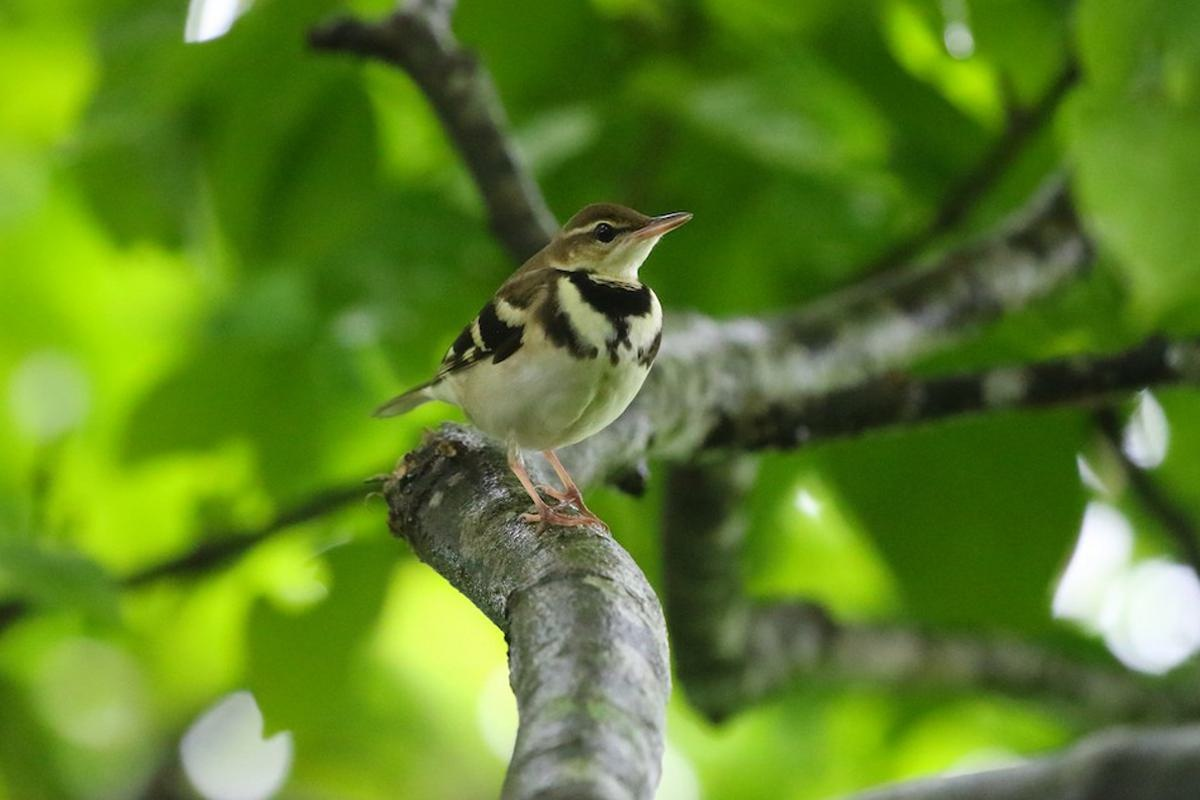wagtail: (359, 184, 746, 512)
